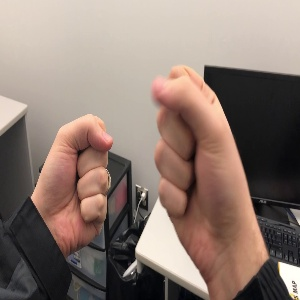hand: (152, 64, 262, 259), (37, 113, 114, 240)
